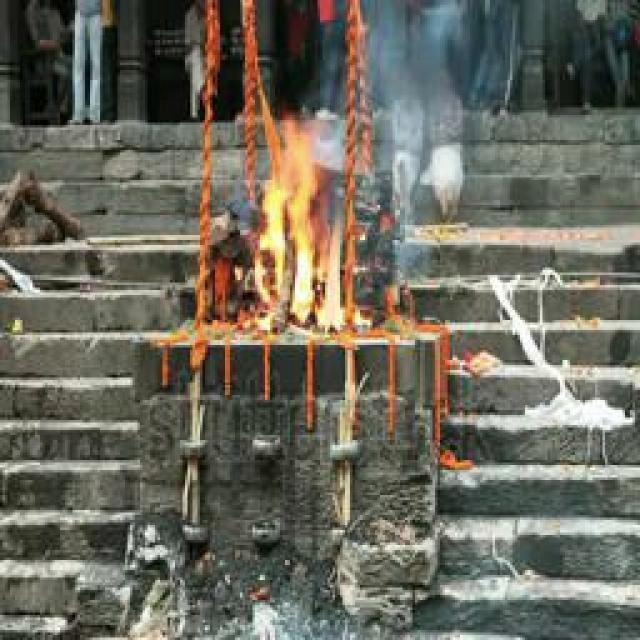Fire: (250, 141, 345, 342)
